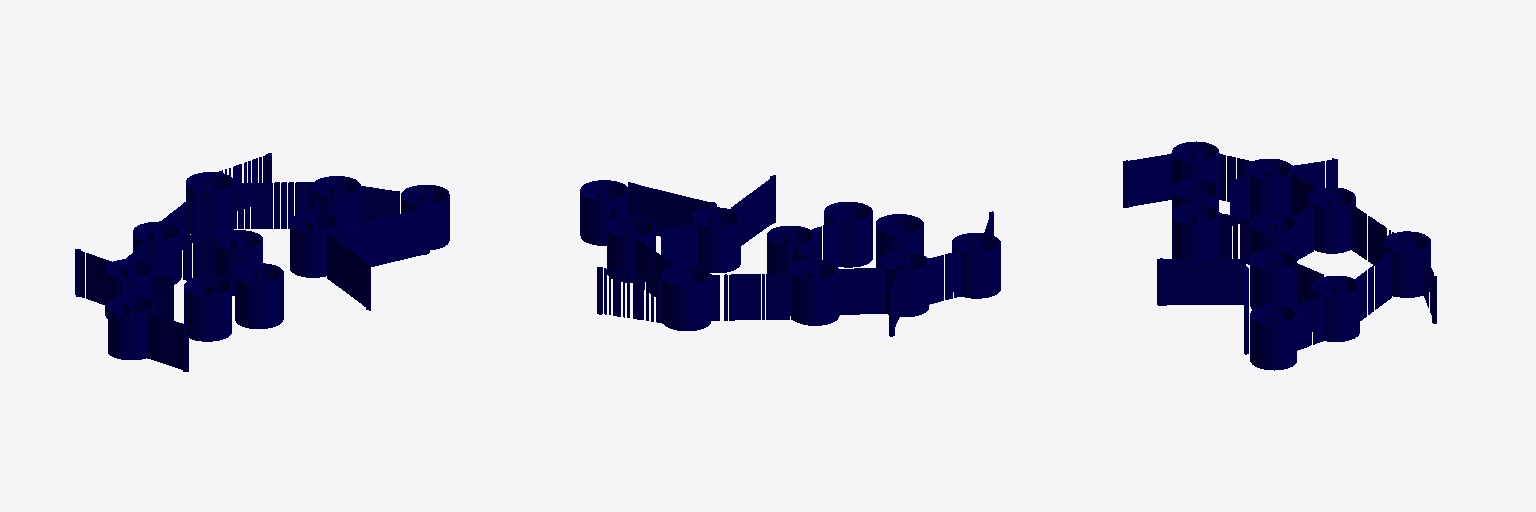
Rendered from tree.obj.
3 renders of one model, left to right at view 1: azimuth 30°, elevation 25°; view 2: azimuth 150°, elevation 25°; view 3: azimuth 270°, elevation 25°, orthographic.
Parts seen in each view (by area): view 1: path3777; view 2: path3777; view 3: path3777.
Boxes of the visible parts, x1,y1,x2,y2 form: path3777: [75, 153, 449, 371]; path3777: [580, 175, 1000, 336]; path3777: [1123, 141, 1436, 370].
Bounding box in the file's own units: 0.1711 × 0.02 × 0.1244.